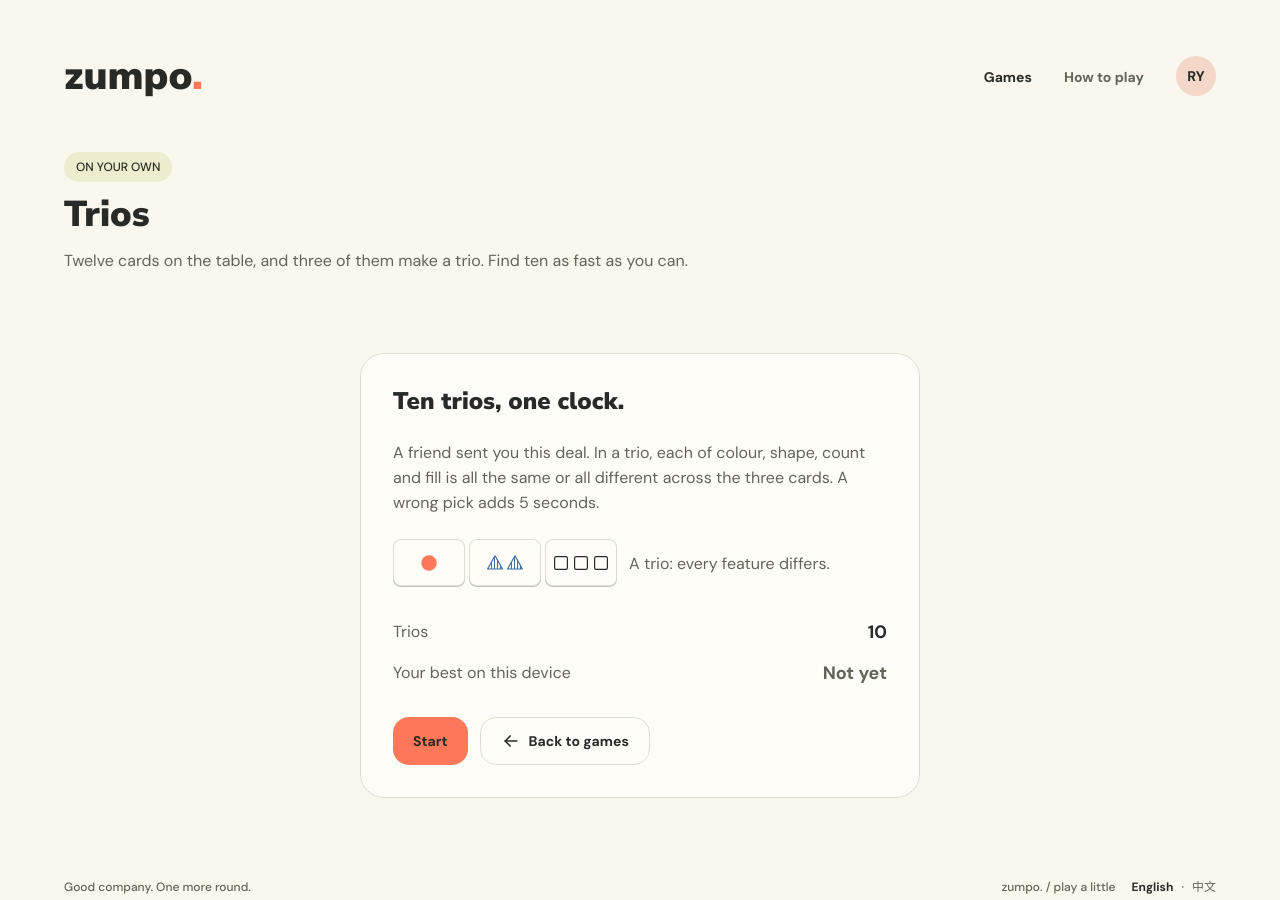
Test case: Trios on your own › marks a card of a trio for 10 seconds, twice at most
Step 1. Click the button "Start" → click(430, 741), box left=393, top=717, right=468, bottom=765
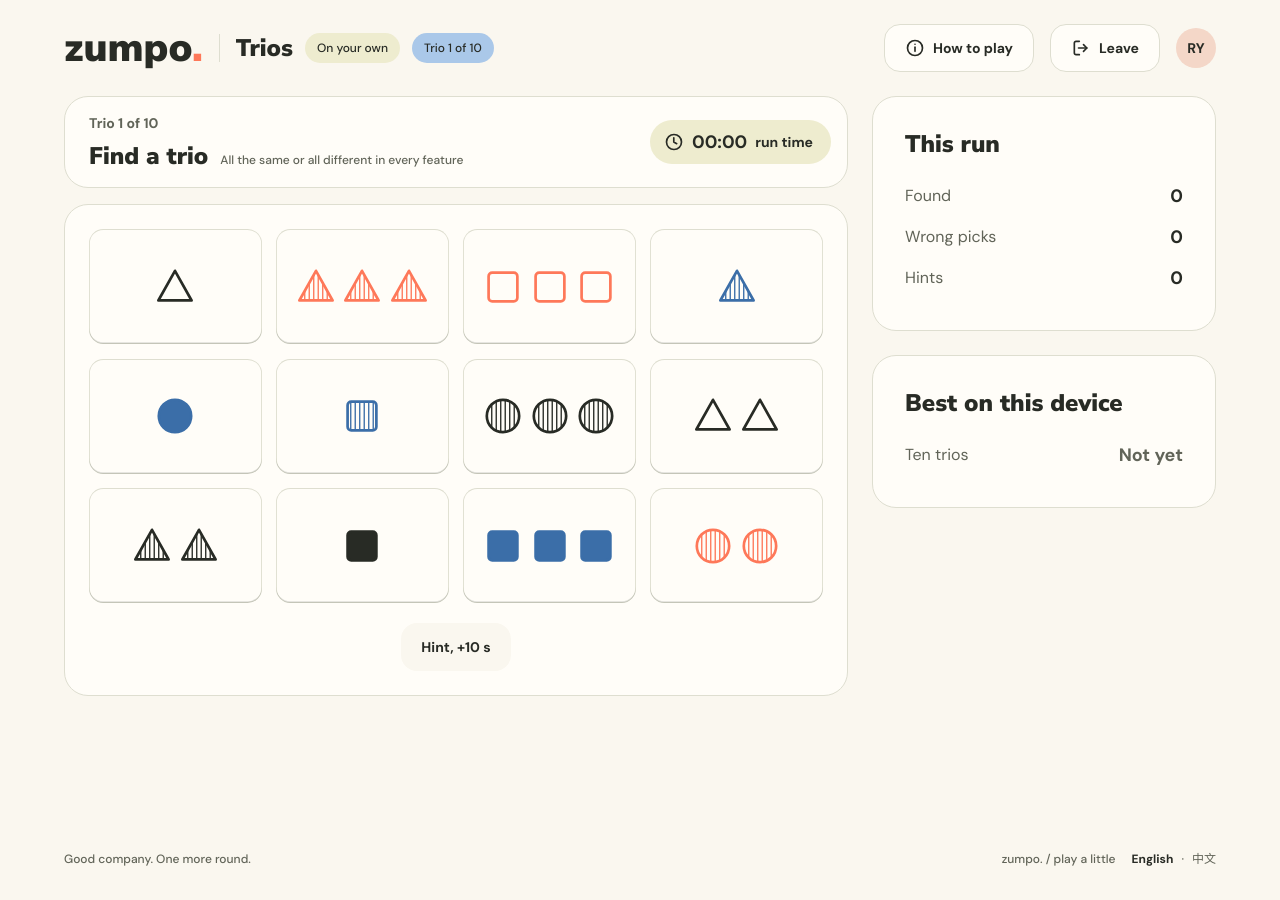
Step 2. Click the button "Hint, +10 s" → click(456, 647), box left=401, top=623, right=511, bottom=671
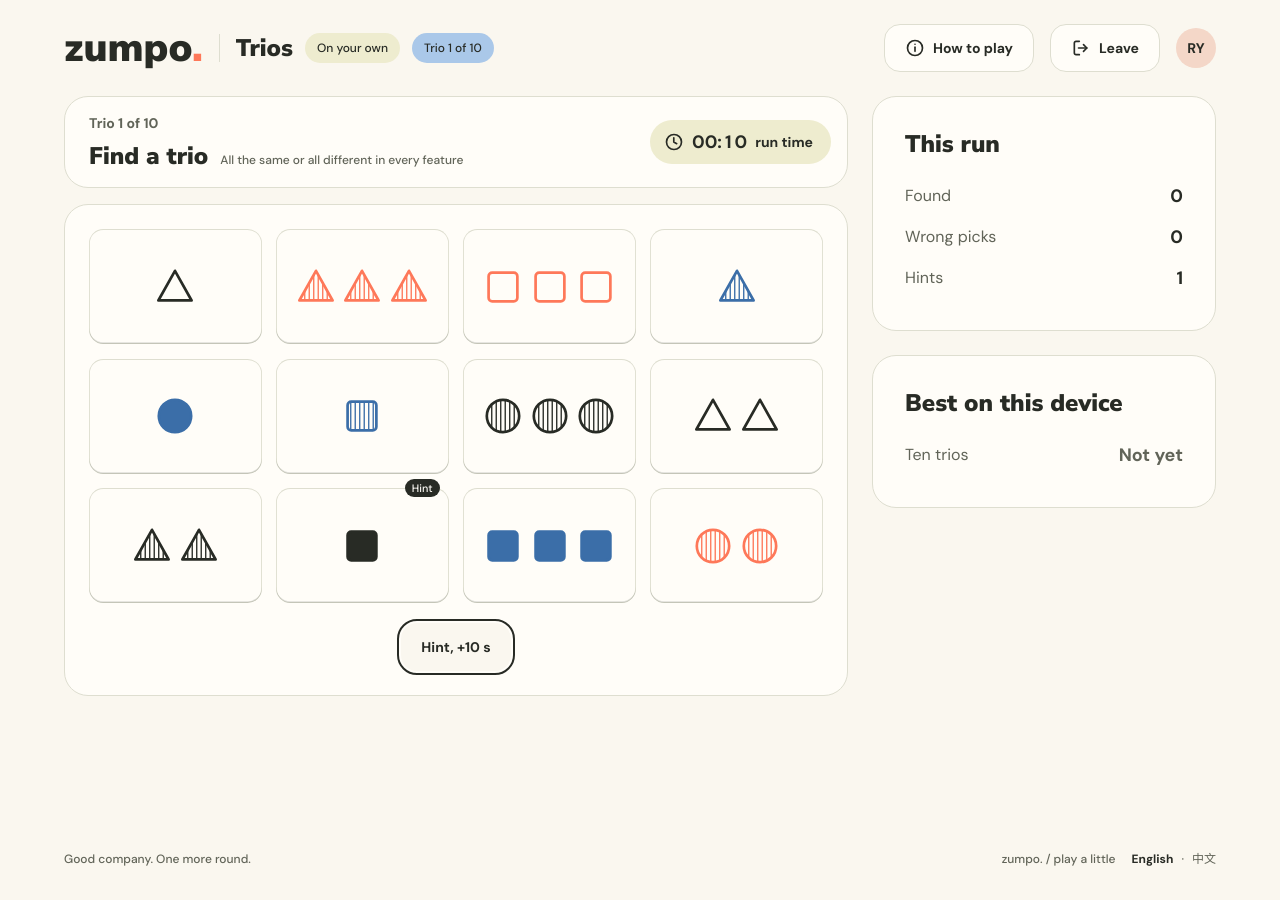
Now the number of buttons named ", hint" is 1, box left=276, top=488, right=449, bottom=603
Step 3. Click the button "Hint, +10 s" → click(456, 647), box left=401, top=623, right=511, bottom=671
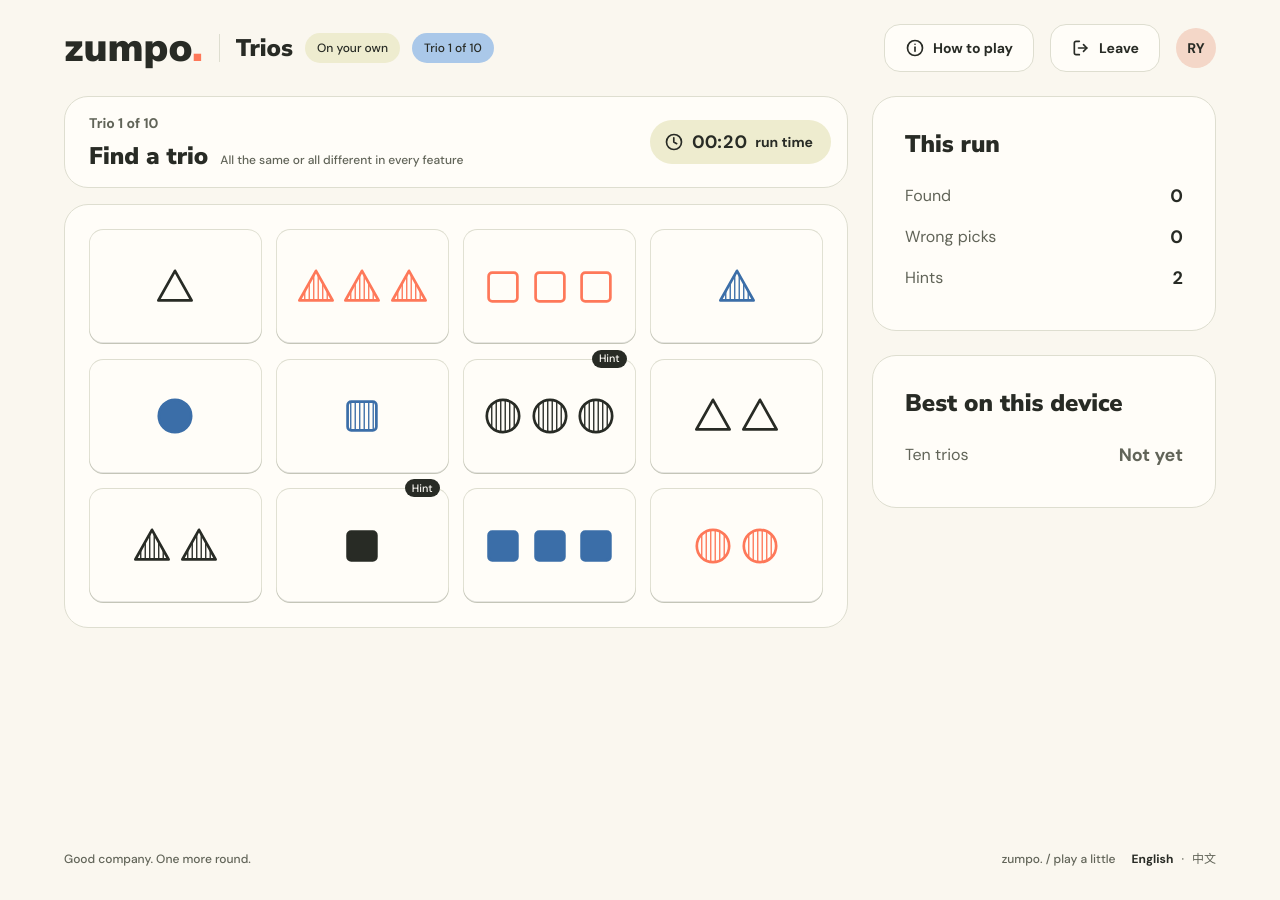
Now the number of buttons named ", hint" is 2, box left=463, top=358, right=636, bottom=474; left=276, top=488, right=449, bottom=603
Now the button "Hint, +10 s" is gone
Now the element showing "0 0 : 2 0 run time" is shown, box left=650, top=120, right=831, bottom=164
